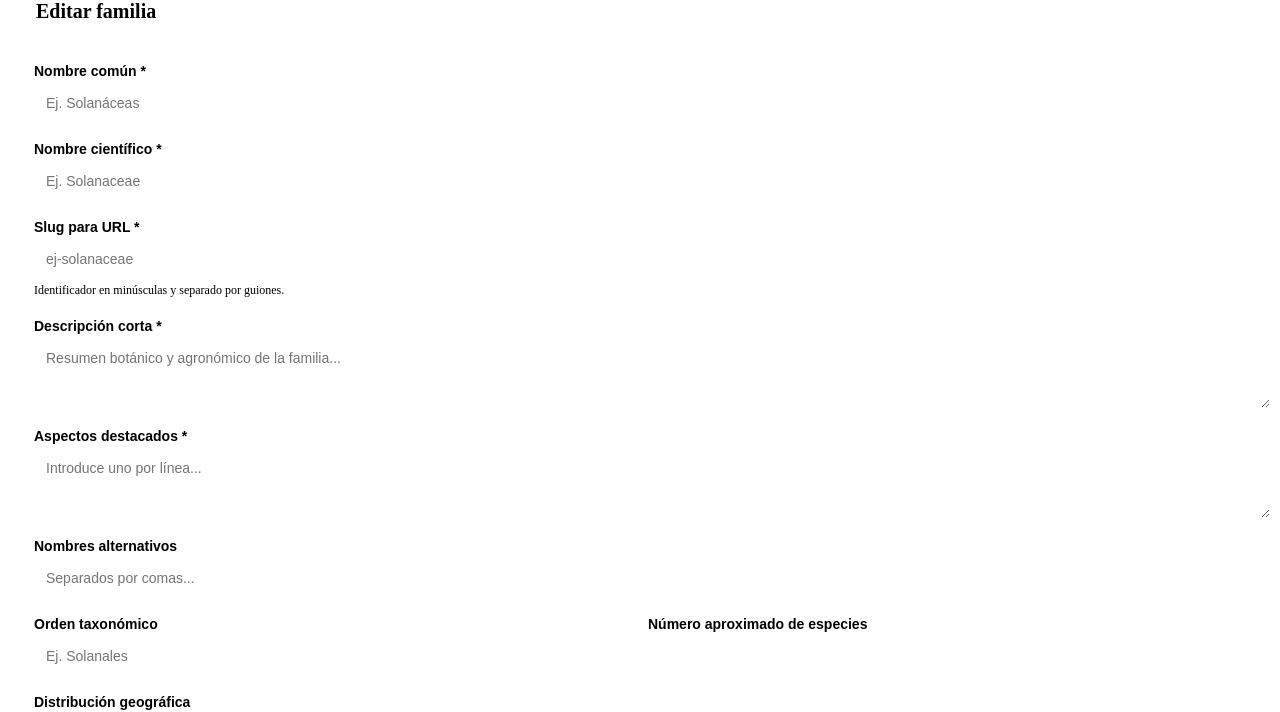
FamilyInlineEditForm › opens cancel confirmation modal when cancelling dirty form
Type " extra" into the field labelled "Nombre común *" at point(652, 103), box x1=34 y1=85 x2=1270 y2=121
(page scrolled)
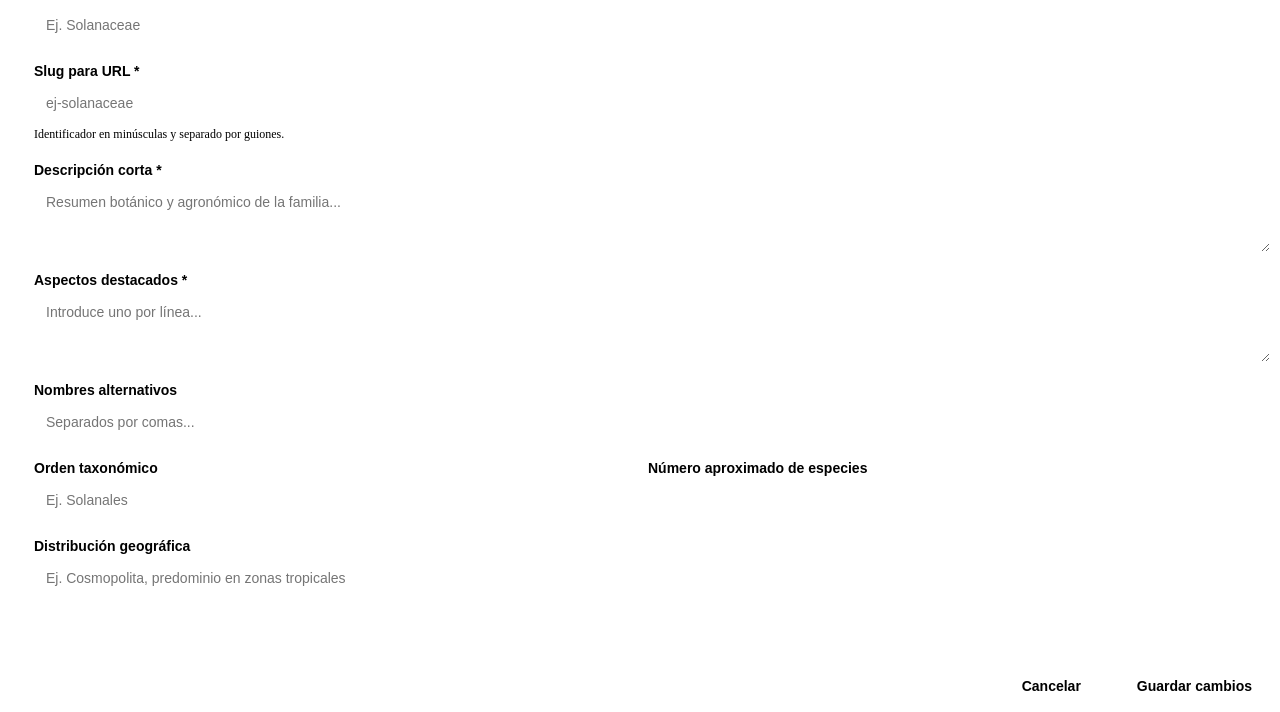
Click the button "Cancelar" at point(1051, 686), box x1=1002 y1=668 x2=1101 y2=704
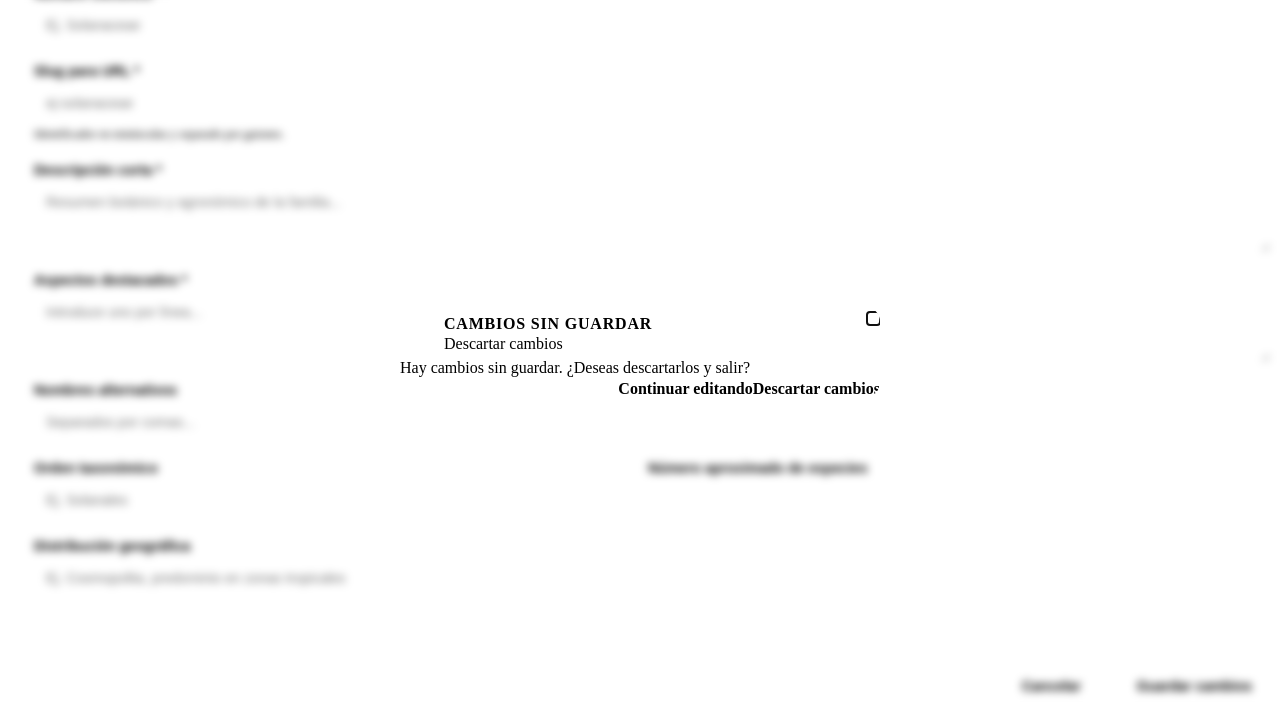
Check: the dialog is shown, box x1=400 y1=306 x2=880 y2=398
